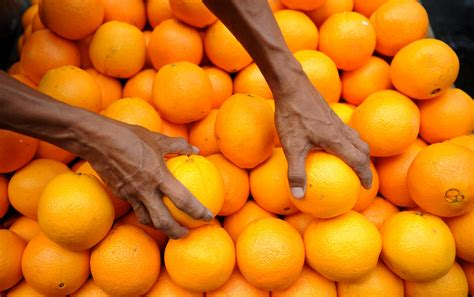orange: (301, 210, 382, 288), (35, 171, 117, 245), (407, 138, 474, 222), (286, 148, 361, 222), (382, 207, 458, 280), (161, 222, 238, 291), (349, 88, 424, 158), (236, 212, 306, 287), (93, 224, 161, 297), (215, 91, 276, 171), (388, 35, 458, 98), (152, 59, 214, 123), (88, 19, 148, 79), (371, 1, 429, 58), (320, 10, 377, 65)
